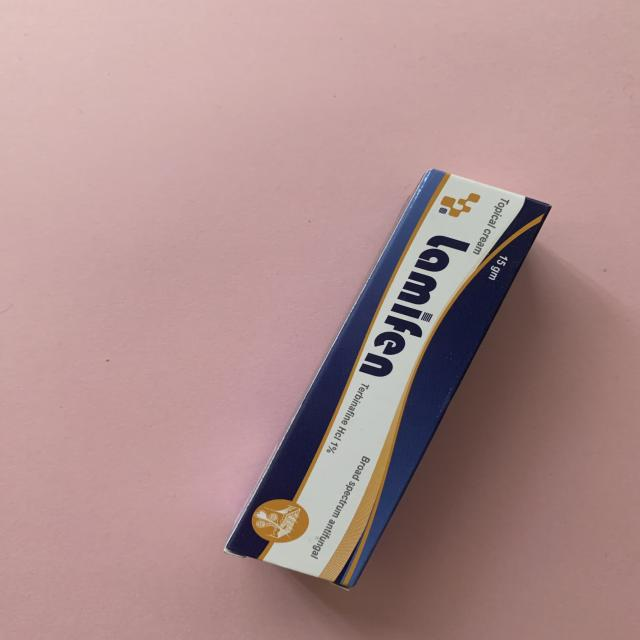medicine_packaging: (216, 151, 577, 610)
